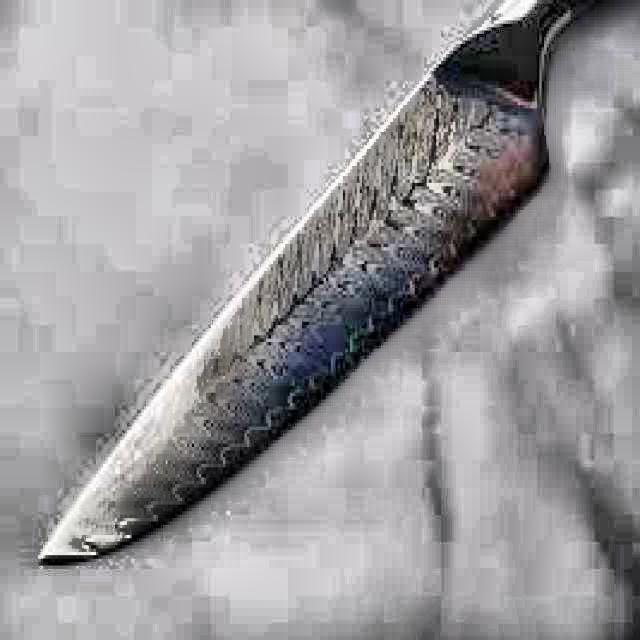knife: (34, 0, 640, 580)
